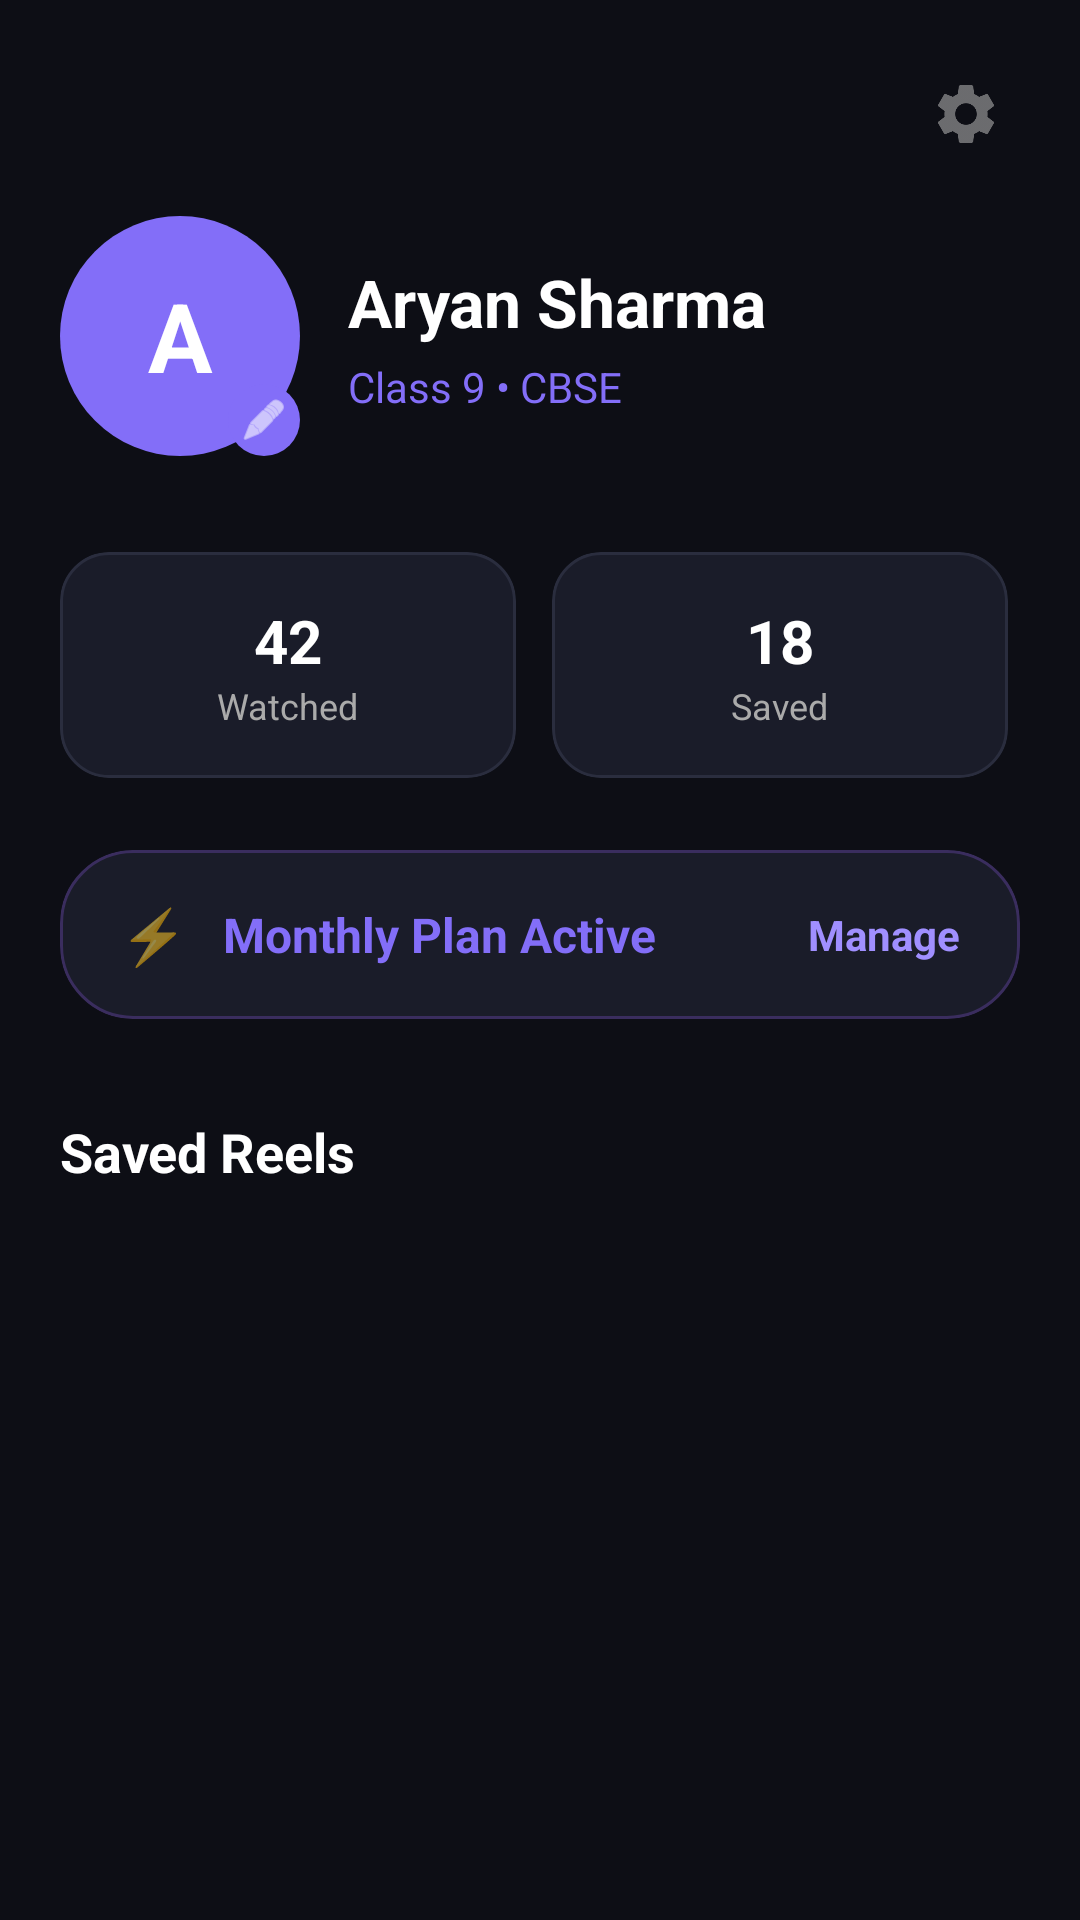

Icon click points for this 1080w x 1920h phone screenshot, format (x,y):
edit: (264,420)
settings: (966,114)
